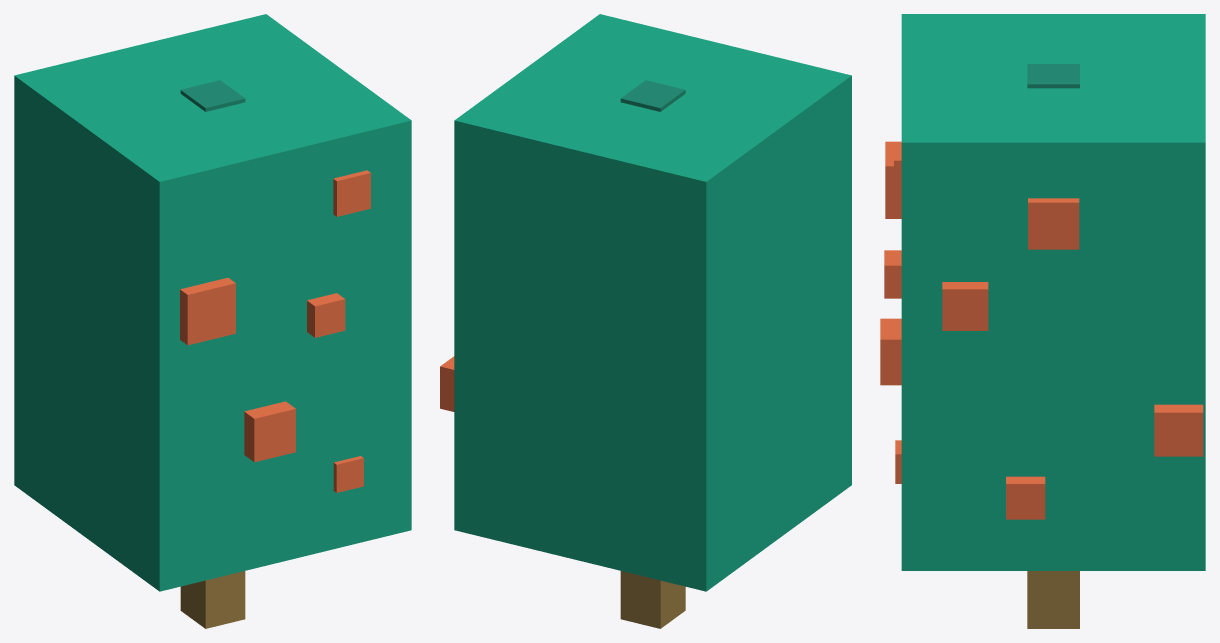
The model's file is tree.glb.
3 views of the same model, side by side, from view 1: azimuth 30°, elevation 25°; view 2: azimuth 150°, elevation 25°; view 3: azimuth 270°, elevation 25° (orthographic). The views are drawn at different scales.
Parts seen in each view (by area): view 1: tree.001, Cube.014, trunk.002, Cube.015, Cube.013, Cube.011, trunk.003, Cube.012; view 2: tree.001, trunk.002, trunk.003, Cube.016; view 3: tree.001, trunk.002, Cube.018, Cube.016, Cube.017, Cube.004, Cube.015, trunk.003, Cube.014, Cube.011.
Boxes of the visible parts, box(x1,y1,x2,y2) form: tree.001: box(14, 14, 411, 591); Cube.014: box(180, 277, 235, 345); trunk.002: box(180, 571, 245, 628); Cube.015: box(244, 401, 295, 462); Cube.013: box(333, 170, 370, 216); Cube.011: box(307, 293, 345, 337); trunk.003: box(180, 80, 245, 111); Cube.012: box(333, 456, 363, 492); tree.001: box(454, 14, 851, 591); trunk.002: box(620, 571, 685, 628); trunk.003: box(620, 80, 685, 111); Cube.016: box(440, 356, 454, 411); tree.001: box(901, 14, 1205, 570); trunk.002: box(1027, 571, 1079, 628); Cube.018: box(1028, 198, 1079, 249); Cube.016: box(1154, 404, 1203, 456); Cube.017: box(942, 282, 988, 330); Cube.004: box(1006, 476, 1045, 519); Cube.015: box(880, 318, 901, 385); trunk.003: box(1027, 64, 1079, 88); Cube.014: box(885, 141, 901, 218); Cube.011: box(884, 250, 901, 298).
Bounding box in the file's own units: 1.62 × 3.02 × 1.63.
